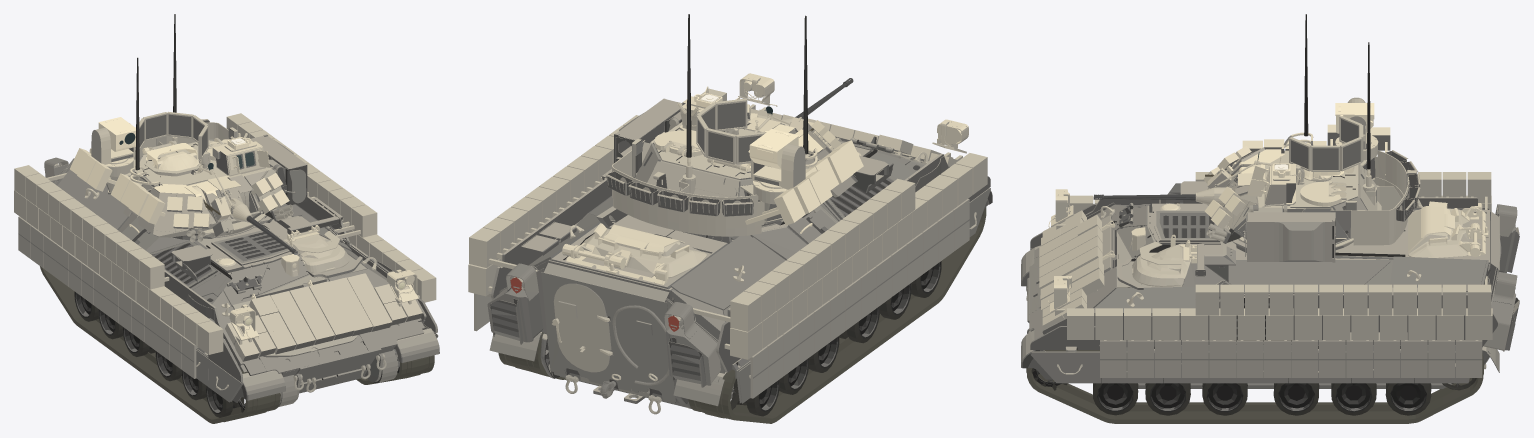
File: vehicle.glb
3 renders of one model, left to right at view 1: azimuth 30°, elevation 25°; view 2: azimuth 150°, elevation 25°; view 3: azimuth 270°, elevation 25°, orthographic. The views are drawn at different scales.
Parts seen in each view (by area): view 1: WT_@root, WT_bone_turret, WT_track_r, WT_hatch_01, WT_hatch_02, WT_ex_decor_r_05, WT_roll_05, WT_ex_decor_l_04, WT_ex_armor_03, BRAT_M5_L_HIGH_01, WT_bone_commander_sight_v, WT_ex_armor_r_01 (+59 smaller); view 2: WT_@root, WT_bone_turret, WT_rear_ramp, WT_track_r, WT_hatch_04, WT_hatch_05, WT_ex_decor_r_04, WT_ex_decor_l_09, WT_roll_05, WT_ex_armor_03, BRAT_M5_R_HIGH_12, WT_Hull_RoofHatchFixedHinges (+66 smaller); view 3: WT_@root, WT_bone_turret, WT_track_l, WT_roll_05, WT_hatch_05, WT_hatch_01, WT_ex_armor_l_01, WT_ex_decor_l_09, WT_wheel_l_02, WT_wheel_l_05, WT_wheel_l_04, WT_wheel_l_06 (+62 smaller).
Boxes of the visible parts, bbox=[...] form: WT_@root: bbox=[57, 169, 437, 407]; WT_bone_turret: bbox=[105, 119, 281, 237]; WT_track_r: bbox=[40, 266, 280, 423]; WT_hatch_01: bbox=[284, 225, 349, 273]; WT_hatch_02: bbox=[142, 140, 199, 170]; WT_ex_decor_r_05: bbox=[233, 370, 285, 402]; WT_roll_05: bbox=[251, 134, 307, 204]; WT_ex_decor_l_04: bbox=[395, 328, 439, 362]; WT_ex_armor_03: bbox=[91, 123, 135, 164]; BRAT_M5_L_HIGH_01: bbox=[327, 205, 377, 238]; WT_bone_commander_sight_v: bbox=[98, 117, 135, 151]; WT_ex_armor_r_01: bbox=[208, 359, 242, 402]; WT_@root: bbox=[491, 136, 990, 408]; WT_bone_turret: bbox=[605, 96, 857, 236]; WT_rear_ramp: bbox=[541, 262, 677, 403]; WT_track_r: bbox=[688, 207, 986, 423]; WT_hatch_04: bbox=[552, 283, 612, 372]; WT_hatch_05: bbox=[574, 223, 706, 278]; WT_ex_decor_r_04: bbox=[664, 298, 725, 387]; WT_ex_decor_l_09: bbox=[487, 263, 546, 344]; WT_roll_05: bbox=[614, 98, 682, 163]; WT_ex_armor_03: bbox=[751, 138, 805, 189]; BRAT_M5_R_HIGH_12: bbox=[693, 291, 761, 331]; WT_Hull_RoofHatchFixedHinges: bbox=[562, 244, 668, 284]; WT_@root: bbox=[1027, 181, 1497, 365]; WT_bone_turret: bbox=[1223, 132, 1420, 249]; WT_track_l: bbox=[1026, 350, 1483, 423]; WT_roll_05: bbox=[1247, 212, 1335, 262]; WT_hatch_05: bbox=[1408, 201, 1480, 257]; WT_hatch_01: bbox=[1132, 234, 1192, 286]; WT_ex_armor_l_01: bbox=[1030, 351, 1101, 383]; WT_ex_decor_l_09: bbox=[1483, 266, 1519, 351]; WT_wheel_l_02: bbox=[1145, 378, 1190, 415]; WT_wheel_l_05: bbox=[1331, 378, 1376, 415]; WT_wheel_l_04: bbox=[1273, 378, 1319, 415]; WT_wheel_l_06: bbox=[1385, 378, 1431, 415].
Size of the model in its own units: 3.76 by 4.77 by 6.58.
Materials: 52 (2 with a texture image).
